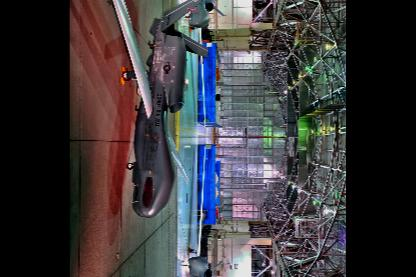P3: (84, 0, 209, 218), (183, 145, 224, 276), (186, 0, 225, 129)
